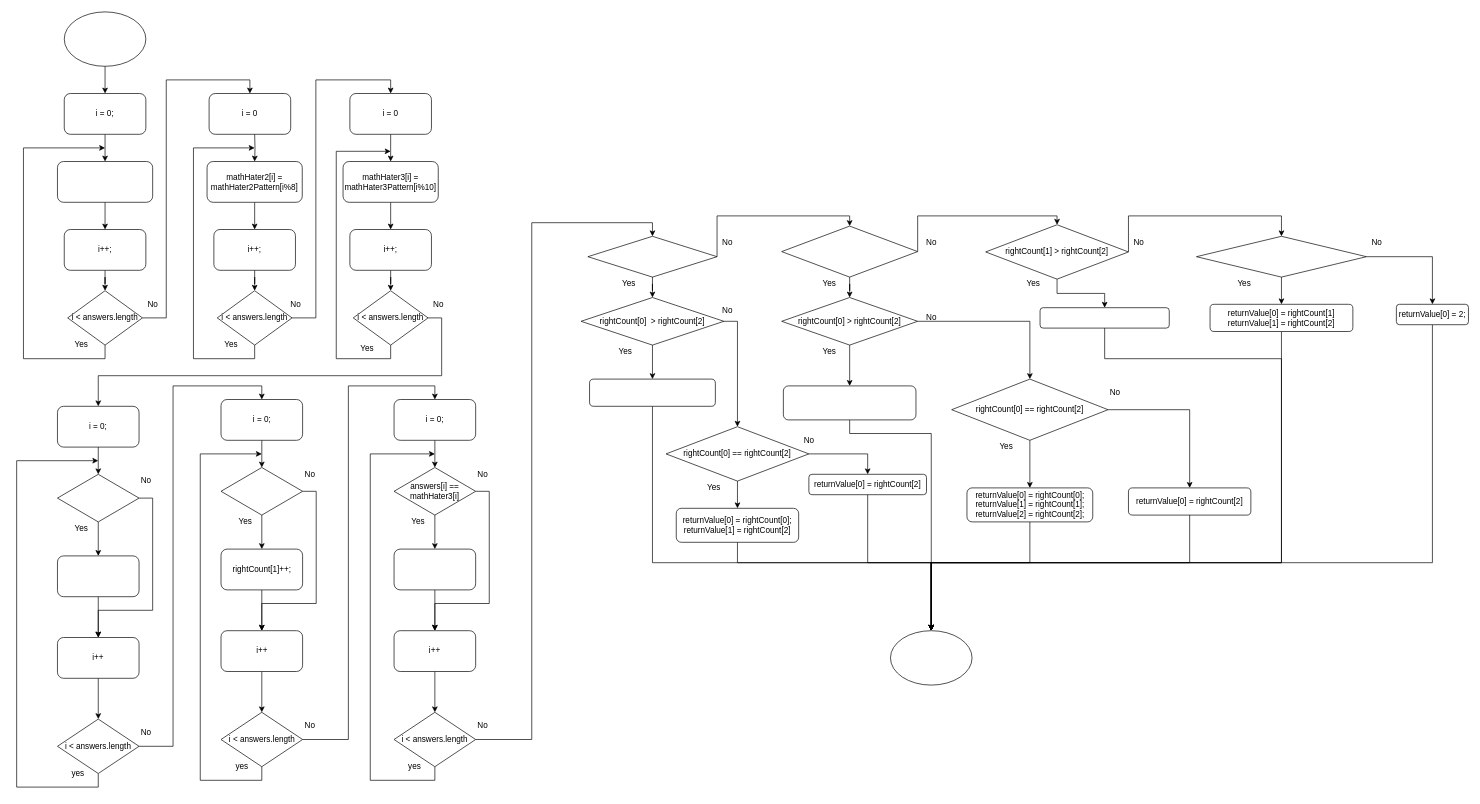
Image size: 1480x804. Some labels were removed from this diagram. Each missing label, with the centre of its shape:
answers[i] == mathHater1[i]: (x=98, y=498)
answers[i] == mathHater2[i]: (x=261, y=491)
End: (x=931, y=657)
mathHater1[i] = mathHater1Pattern[i%5]: (x=105, y=181)
returnValue[0] = rightCount[0]; returnValue[1] = rightCount[1]: (x=849, y=402)
returnValue[0] = rightCount[1];: (x=1104, y=317)
returnValues[0] = rightCount[0]: (x=652, y=392)
rightCount[0] == rightCount[1]: (x=849, y=251)
rightCount[0] > rightCount[1]: (x=652, y=256)
rightCount[0]++;: (x=98, y=576)
rightCount[1] == rightCount[2]: (x=1281, y=256)
rightCount[2]++;: (x=434, y=569)
start: (x=105, y=38)
